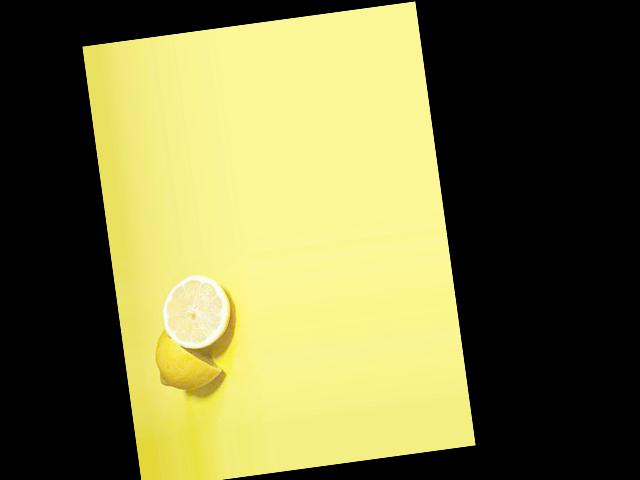lemon: (147, 318, 234, 393)
